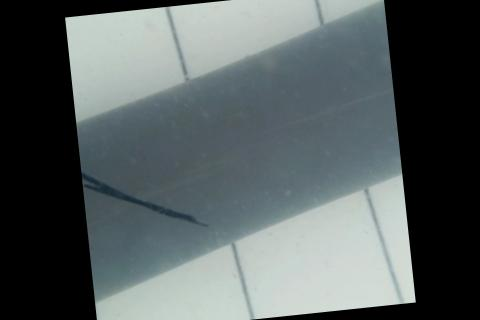keretakan: (80, 155, 209, 241)
